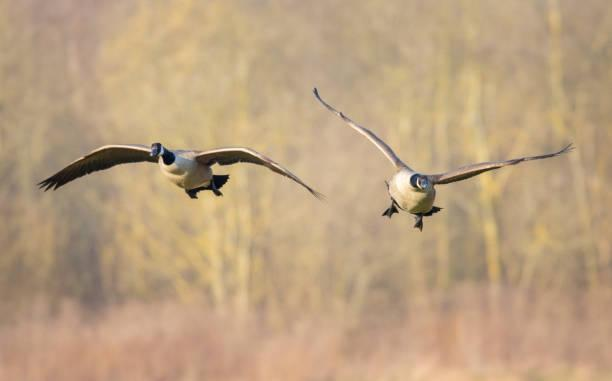Canadian-Goose: (314, 84, 576, 235), (40, 140, 319, 207)
